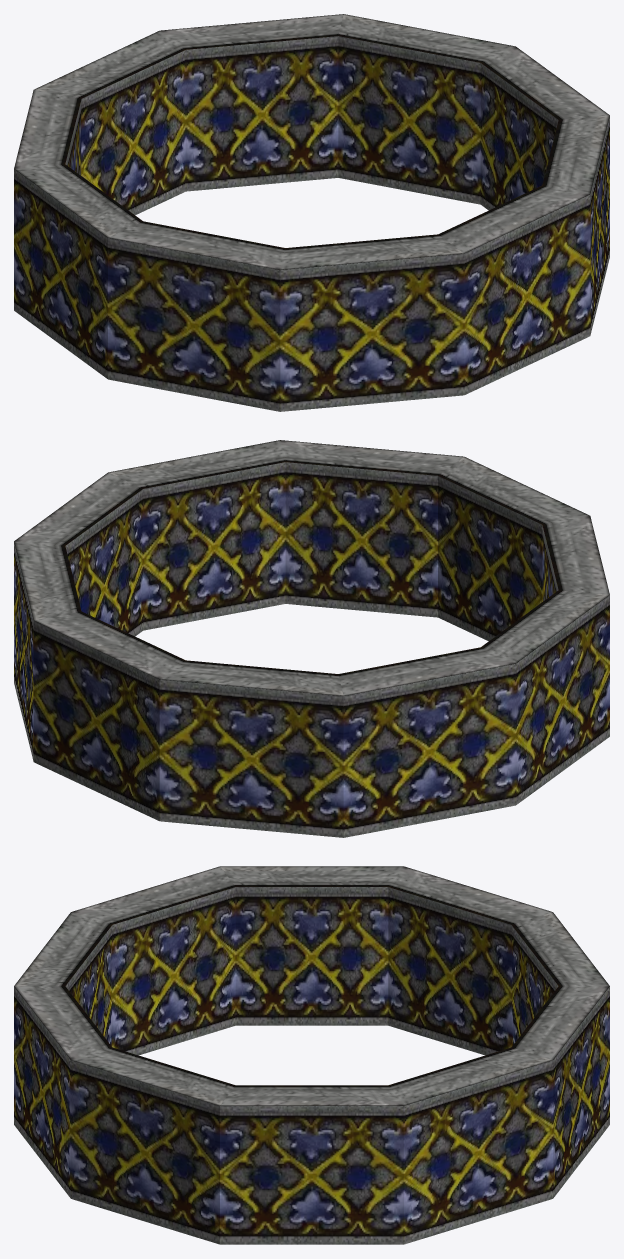
The model's file is ITRI_MANA_01.glb.
3 renders of one model, top to bottom at view 1: azimuth 30°, elevation 25°; view 2: azimuth 150°, elevation 25°; view 3: azimuth 270°, elevation 25°, orthographic. The views are drawn at different scales.
Parts seen in each view (by area): view 1: ITRI_MANA_01; view 2: ITRI_MANA_01; view 3: ITRI_MANA_01.
Part boxes in pixels (box(x1,y1,x2,y2)): ITRI_MANA_01: box(14, 14, 609, 411); ITRI_MANA_01: box(14, 440, 609, 837); ITRI_MANA_01: box(14, 866, 609, 1244).
Bounding box in the file's own units: 0.0624 × 0.0169 × 0.0657.
1 material, 1 textured.
